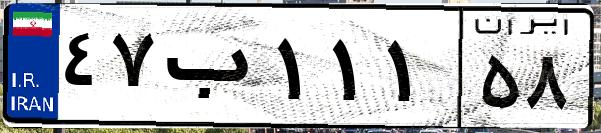1: (270, 28, 330, 110), (385, 28, 445, 110), (330, 28, 385, 110)
4: (57, 26, 110, 100)
5: (475, 38, 525, 113)
7: (110, 28, 158, 98)
8: (525, 38, 570, 115)
ب: (158, 20, 270, 120)
